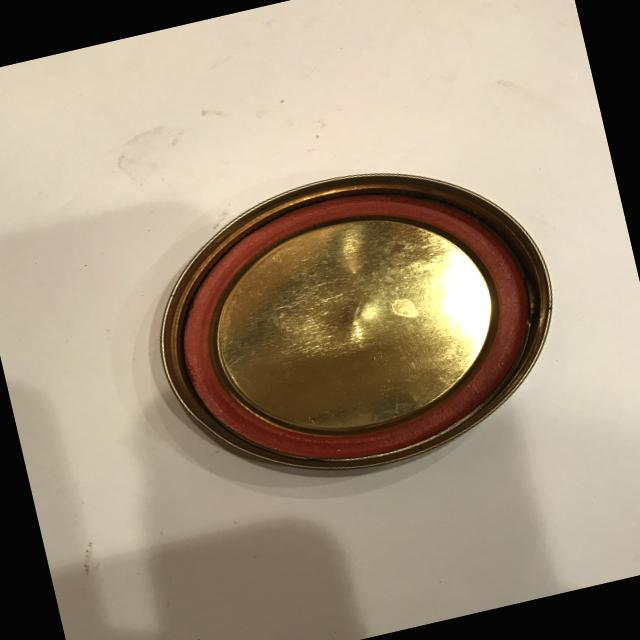Metal: (102, 109, 598, 521)
